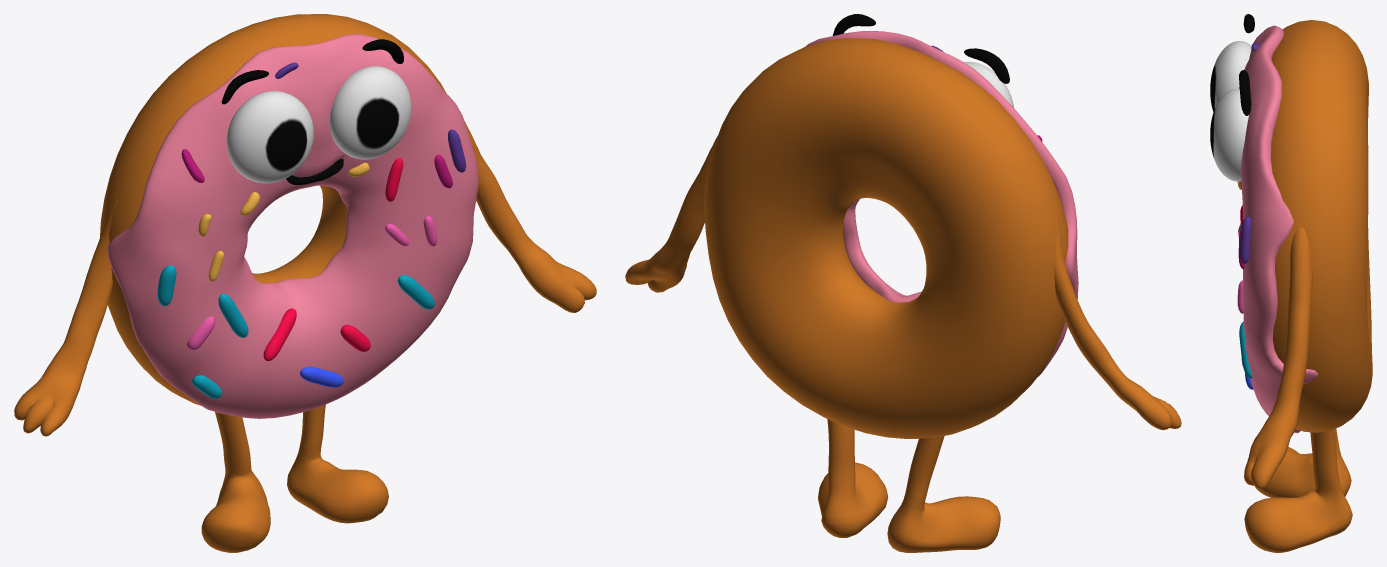
Rendered from tea-cup.glb.
3 views of the same model, side by side, from view 1: azimuth 30°, elevation 25°; view 2: azimuth 150°, elevation 25°; view 3: azimuth 270°, elevation 25° (orthographic). The views are drawn at different scales.
Parts seen in each view (by area): view 1: Dona:Group46611; view 2: Dona:Group46611; view 3: Dona:Group46611.
Part boxes in pixels (<box>): Dona:Group46611: <box>14,14,596,552</box>; Dona:Group46611: <box>625,14,1181,552</box>; Dona:Group46611: <box>1210,14,1372,552</box>.
Size of the model in its own units: 0.5778 by 0.4853 by 0.1479.
Materials: 1 (1 with a texture image).
